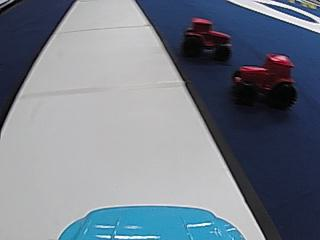Tracktor: (232, 51, 296, 109), (182, 15, 233, 61)
